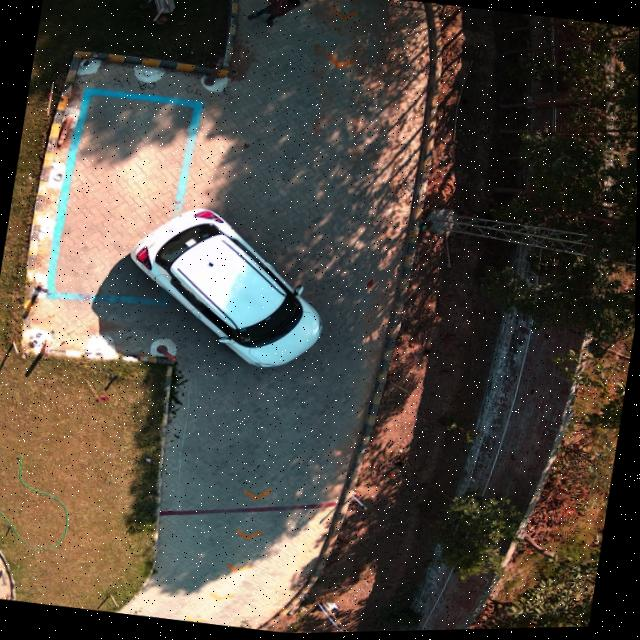car: (131, 211, 319, 370)
